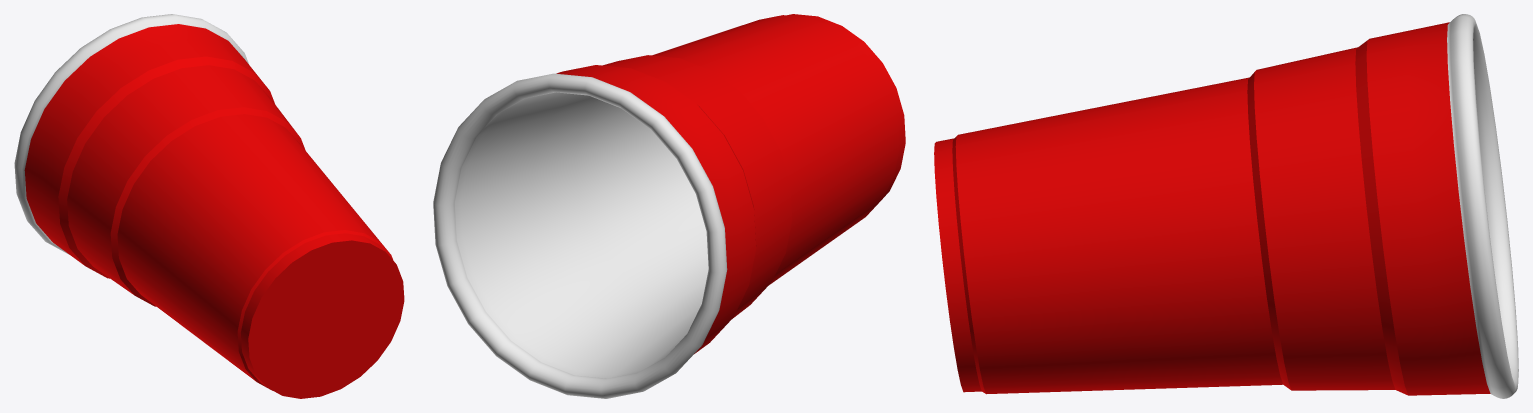
File: solocup1.fbx
3 renders of one model, left to right at view 1: azimuth 30°, elevation 25°; view 2: azimuth 150°, elevation 25°; view 3: azimuth 270°, elevation 25°, orthographic. The views are drawn at different scales.
Parts seen in each view (by area): view 1: pCylinder5; view 2: pCylinder5; view 3: pCylinder5.
Boxes of the visible parts, <box> form: pCylinder5: <box>14,14,404,398</box>; pCylinder5: <box>433,14,905,398</box>; pCylinder5: <box>934,14,1518,398</box>.
Size of the model in its own units: 4.22 by 4.2 by 6.35.
